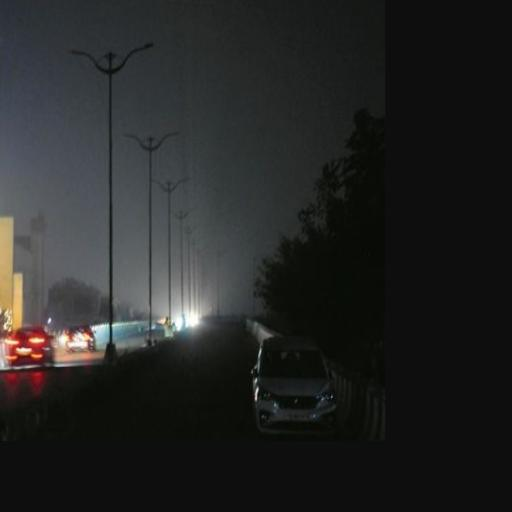off street light: (68, 32, 160, 372), (134, 133, 170, 356), (154, 168, 194, 356)
